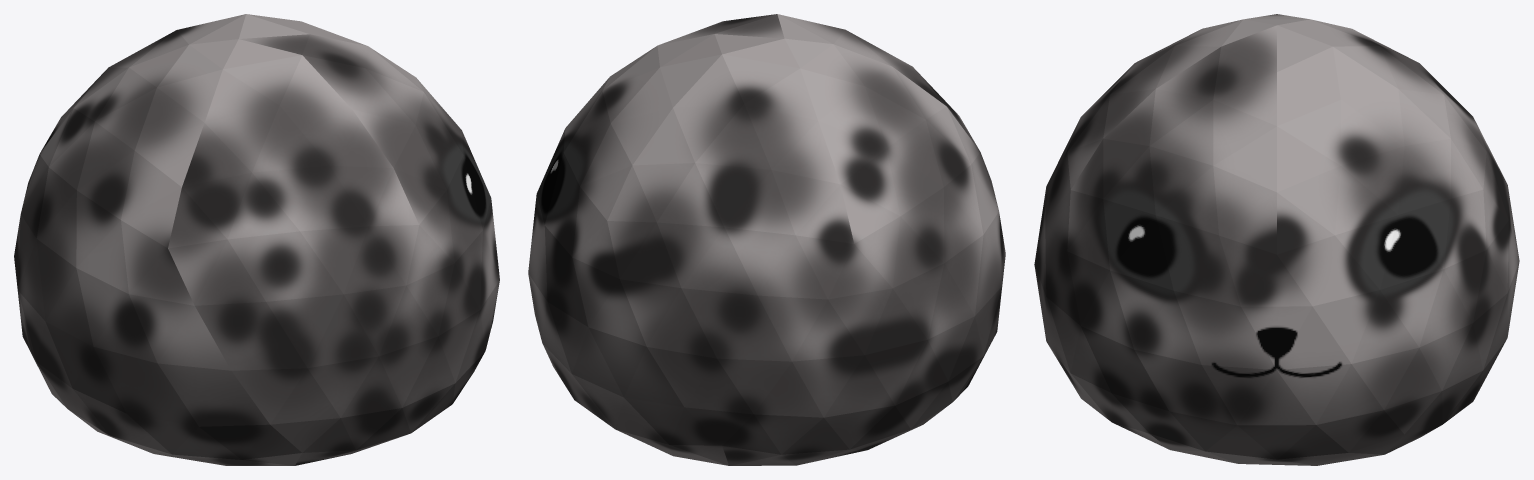
The model's file is Foca.fbx.
3 views of the same model, side by side, from view 1: azimuth 30°, elevation 25°; view 2: azimuth 150°, elevation 25°; view 3: azimuth 270°, elevation 25° (orthographic).
Parts seen in each view (by area): view 1: Icosphere; view 2: Icosphere; view 3: Icosphere.
Boxes of the visible parts, bbox=[...] form: Icosphere: bbox=[14, 14, 499, 465]; Icosphere: bbox=[528, 14, 1005, 465]; Icosphere: bbox=[1034, 14, 1519, 465].
Bounding box in the file's own units: 200 × 169 × 200.
Materials: 1 (1 with a texture image).
